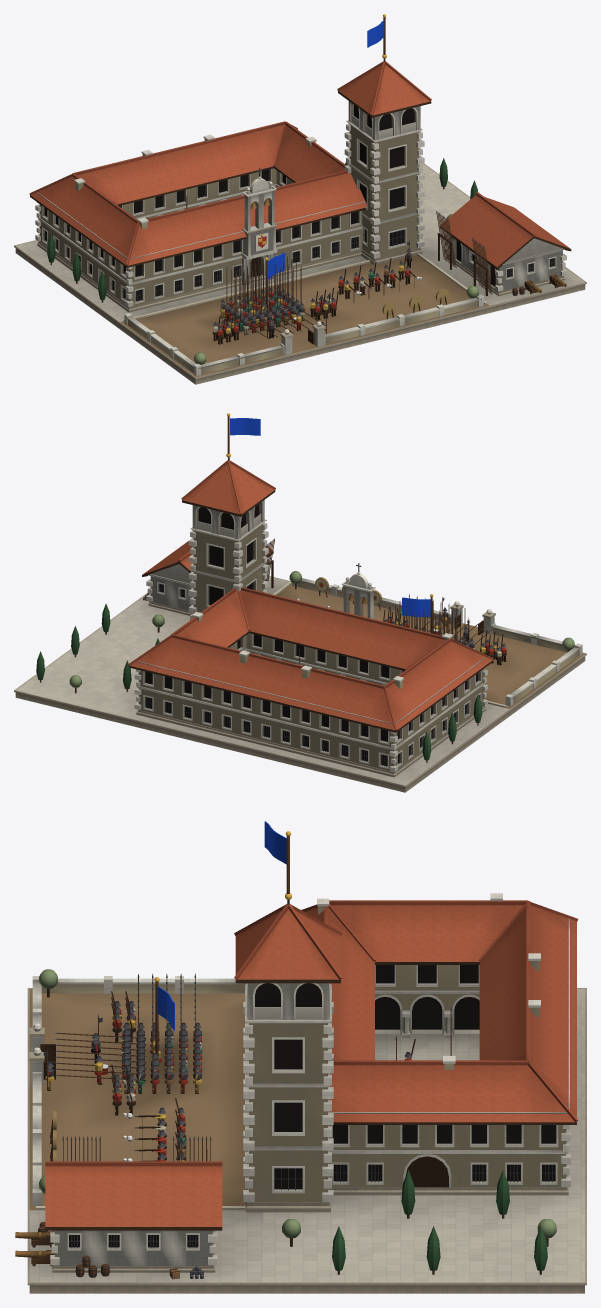
File: lm_tercio.glb
The picture shows the model from 3 angles, top to bottom: view 1: azimuth 30°, elevation 25°; view 2: azimuth 150°, elevation 25°; view 3: azimuth 270°, elevation 25°; orthographic projection. The views are drawn at different scales.
Parts seen in each view (by area): view 1: lm_tercio; view 2: lm_tercio; view 3: lm_tercio.
Boxes of the visible parts, x1,y1,x2,y2 form: lm_tercio: [14, 14, 586, 384]; lm_tercio: [14, 413, 586, 792]; lm_tercio: [15, 821, 586, 1293].
Size of the model in its own units: 2.21 by 1.31 by 1.82.
1 material, 1 textured.
